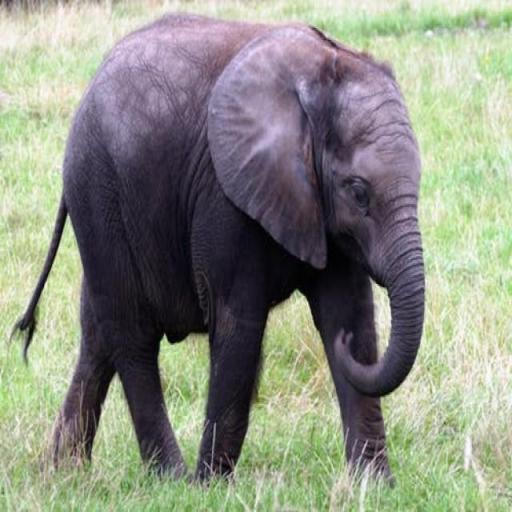Elephant: (8, 9, 426, 491)
